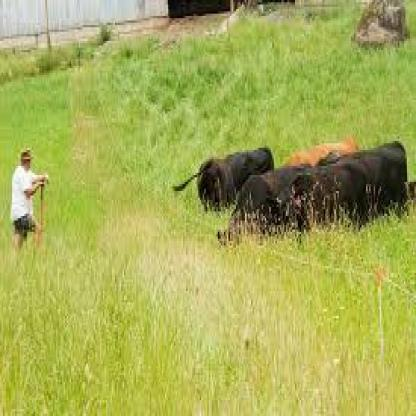cow: (217, 162, 340, 262), (291, 140, 408, 244), (174, 156, 242, 217), (278, 136, 361, 178), (232, 146, 276, 196)
